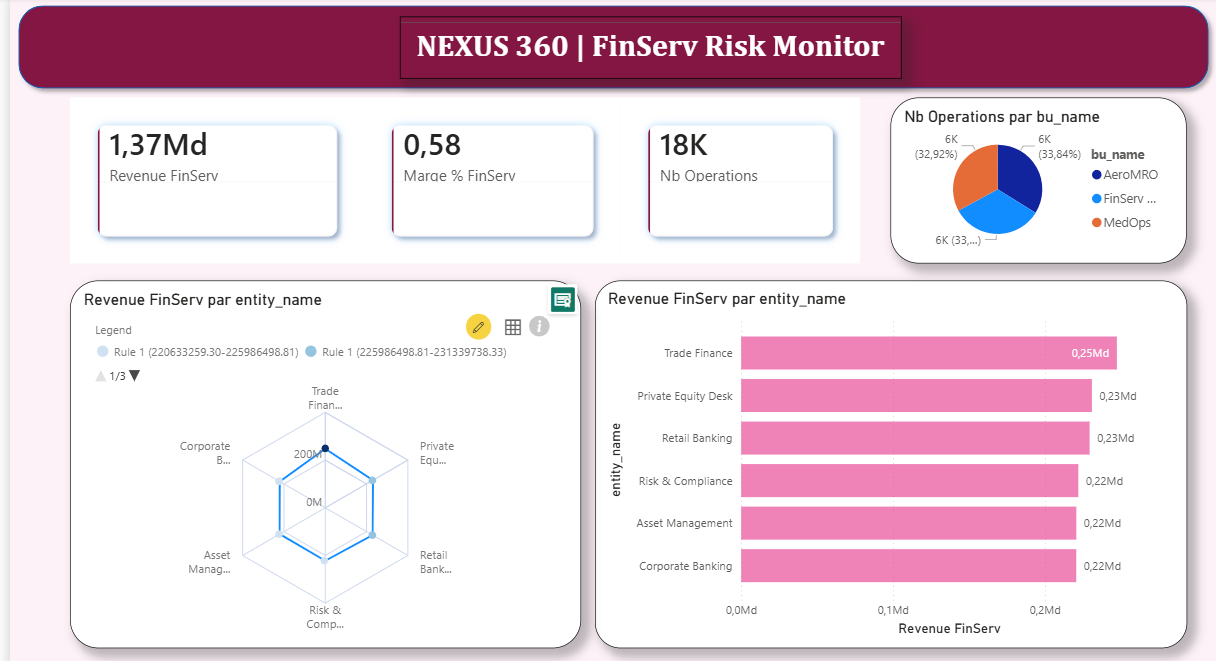

This screenshot's page, from the dashboard's own definition file:
{"tool":"powerbi","page":{"name":"FinServ Risk","canvas":[1280,720],"ordinal":2},"visuals":[{"type":"shape","box":[0,0,1280,106],"z":0},{"type":"textbox","box":[414,20,532,66],"z":1000},{"type":"cardVisual","fields":{"Data":["_Mesures .Revenue FinServ"]},"box":[64,106,312,176],"z":2000},{"type":"cardVisual","fields":{"Data":["_Mesures .Marge % FinServ"]},"box":[376,106,272,176],"z":3000},{"type":"cardVisual","fields":{"Data":["_Mesures .Nb Operations"]},"box":[648,106,254,176],"z":4000},{"type":"clusteredBarChart","fields":{"Category":["Dim_Entity.entity_name"],"Y":["_Mesures .Revenue FinServ"]},"box":[620,300,628,390],"z":5000},{"type":"radarChartE89D21F3E4E64221B79113B5015EA81B","fields":{"category":["Dim_Entity.entity_name"],"measure":["_Mesures .Revenue FinServ"]},"box":[64,300,542,390],"z":6000},{"type":"pieChart","fields":{"Y":["_Mesures.Nb Operations"],"Category":["Dim_Entity.bu_name"]},"box":[934,106,314,176],"z":7000}]}

Visuals, with their boxes on the page's 1280x720 design canvas (x1, y1, x2, y2). These are canvas units, not pixel positions in the 1216x661 screenshot, which may show the page scaled, cropped or inside an application window:
shape: 0, 0, 1280, 106
textbox: 414, 20, 946, 86
cardVisual - _Mesures .Revenue FinServ: 64, 106, 376, 282
cardVisual - _Mesures .Marge % FinServ: 376, 106, 648, 282
cardVisual - _Mesures .Nb Operations: 648, 106, 902, 282
clusteredBarChart - Dim_Entity.entity_name x _Mesures .Revenue FinServ: 620, 300, 1248, 690
radarChartE89D21F3E4E64221B79113B5015EA81B - Dim_Entity.entity_name x _Mesures .Revenue FinServ: 64, 300, 606, 690
pieChart - _Mesures.Nb Operations x Dim_Entity.bu_name: 934, 106, 1248, 282
